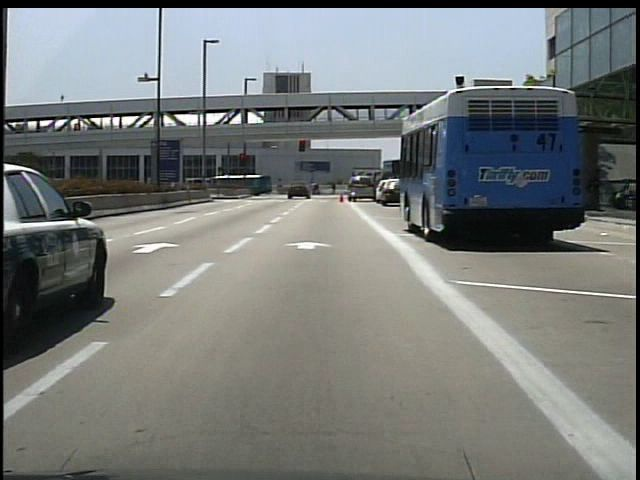person: (610, 180, 634, 211), (312, 182, 322, 197), (330, 182, 339, 197)
